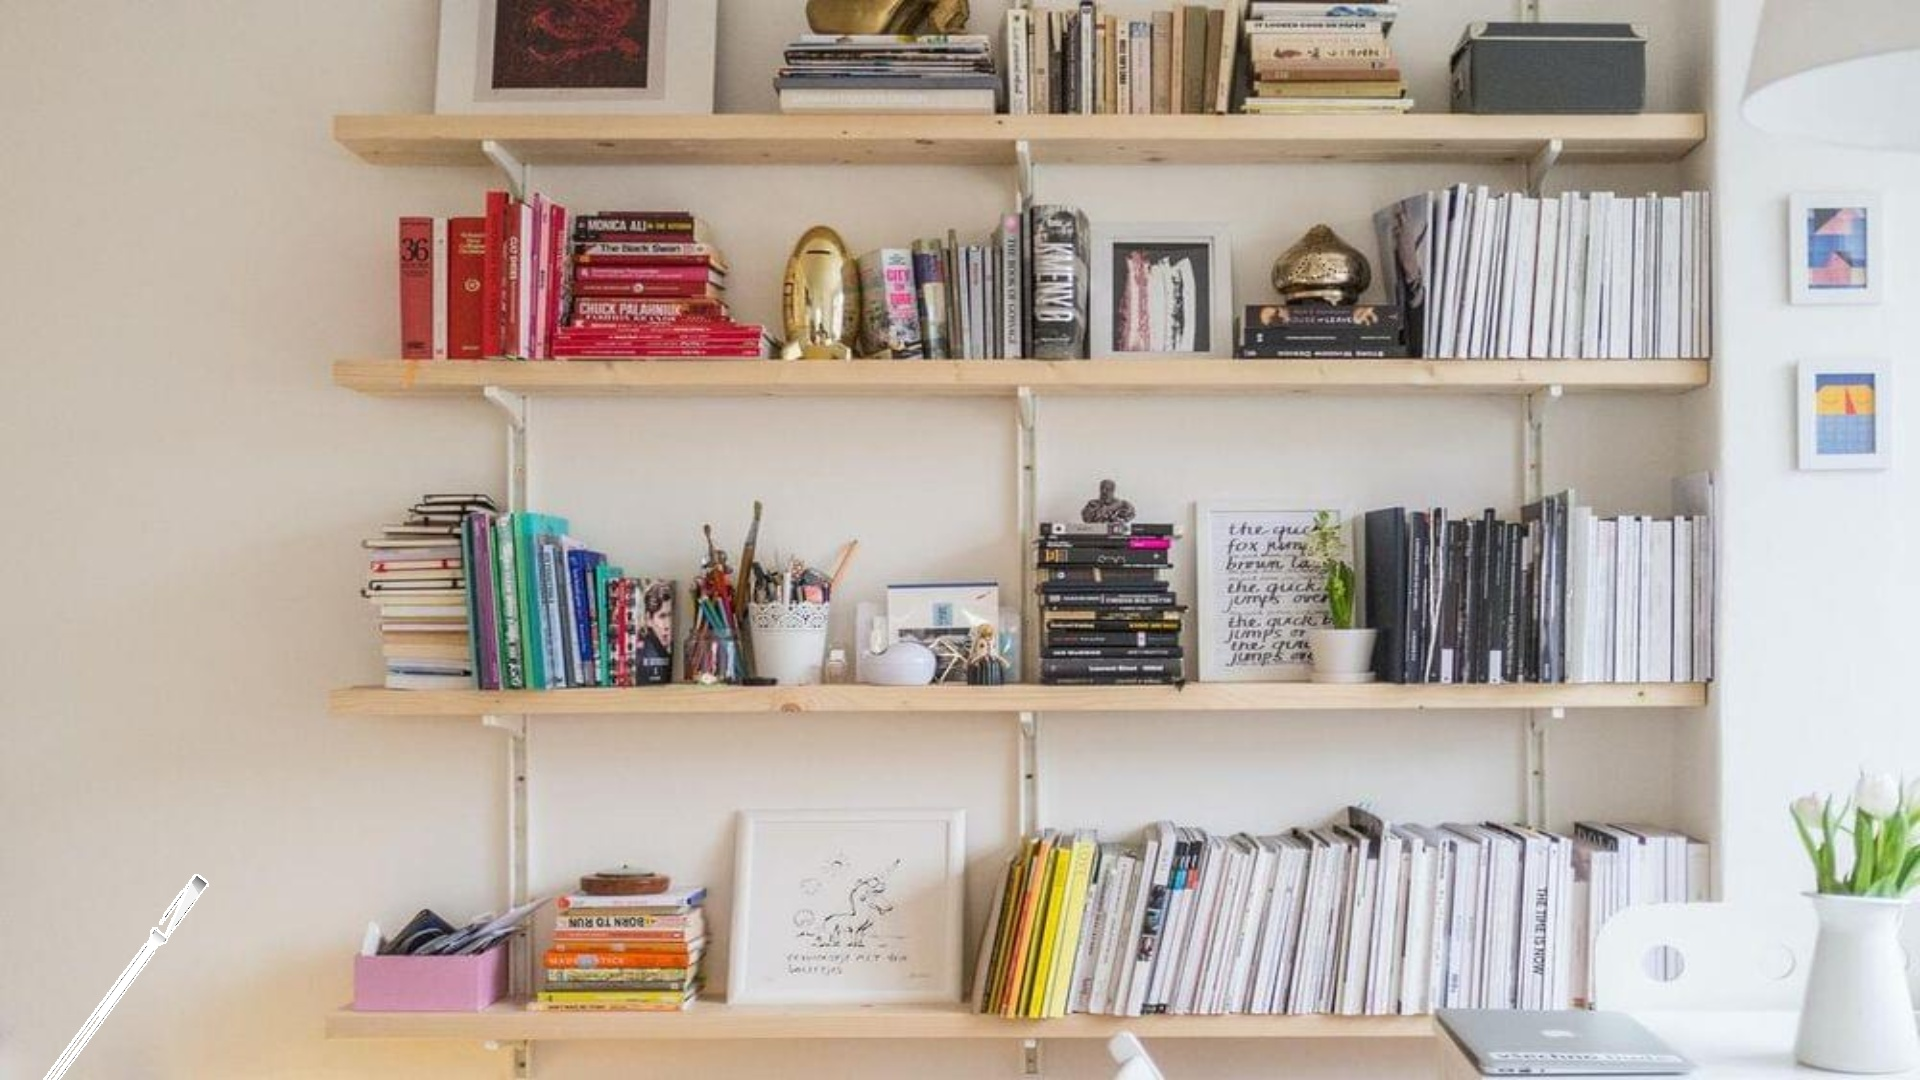Mixed Key: (44, 874, 208, 1079)
